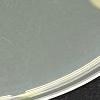white: (87, 0, 100, 8)
